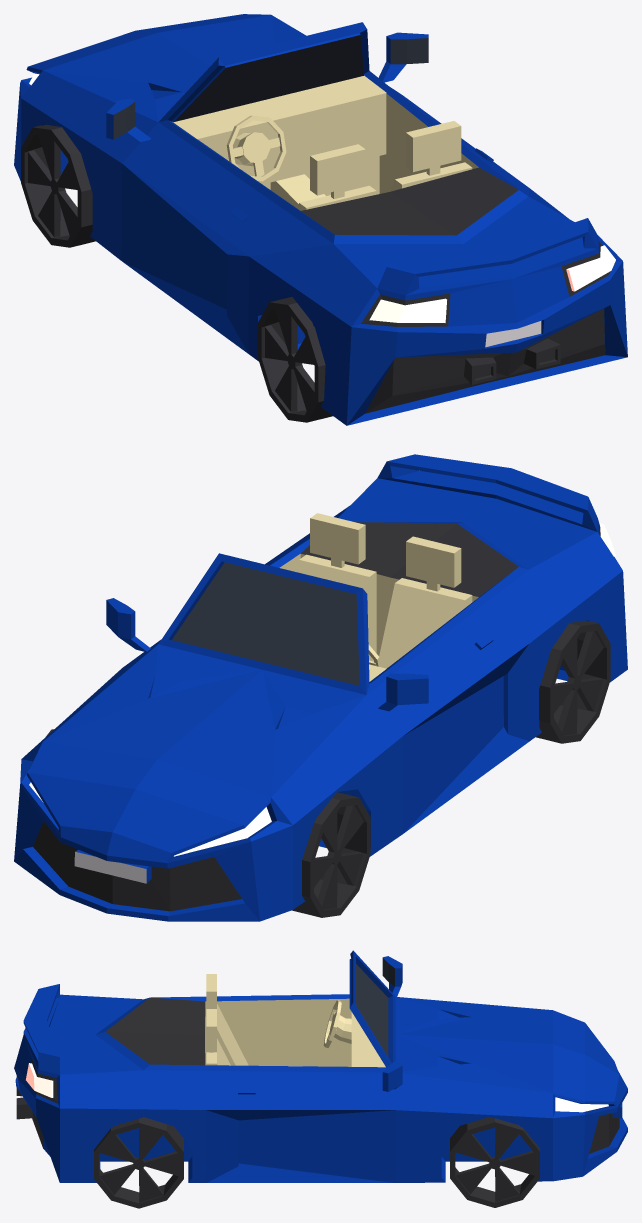
The model's file is rv_racer.glb.
The picture shows the model from 3 angles, top to bottom: view 1: azimuth 30°, elevation 25°; view 2: azimuth 150°, elevation 25°; view 3: azimuth 270°, elevation 25°; orthographic projection. The views are drawn at different scales.
Visible parts, largest first — view 1: Body, WheelFL, WheelRL; view 2: Body, WheelRL, WheelFL; view 3: Body, WheelRR, WheelFR.
Boxes of the visible parts, x1,y1,x2,y2 form: Body: [14, 14, 627, 425]; WheelFL: [21, 124, 95, 247]; WheelRL: [258, 297, 332, 422]; Body: [14, 454, 627, 921]; WheelRL: [536, 620, 610, 743]; WheelFL: [292, 792, 370, 917]; Body: [14, 950, 627, 1182]; WheelRR: [94, 1117, 183, 1208]; WheelFR: [450, 1117, 539, 1207].
Size of the model in its own units: 1.9 by 1.35 by 4.2.
